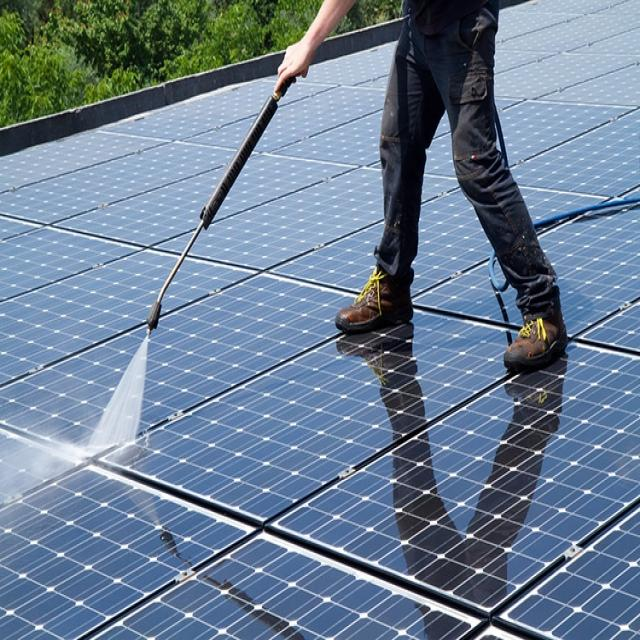clean-solar-panel: (0, 4, 640, 640)
